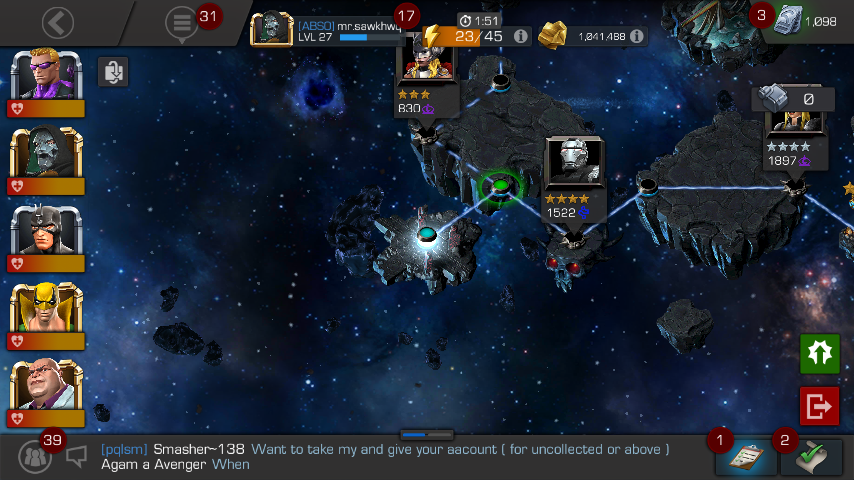green: (491, 179, 511, 194)
